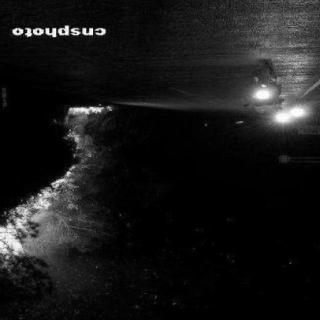Fire: (9, 100, 110, 302)
other: (246, 83, 306, 134)
